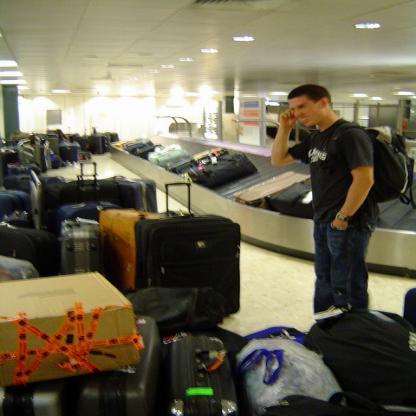backpack: (330, 123, 416, 210)
suitcase: (0, 80, 415, 404), (132, 182, 244, 320), (159, 335, 237, 416), (99, 205, 162, 293), (1, 224, 62, 278), (62, 213, 111, 276), (57, 201, 124, 237), (0, 382, 65, 416), (59, 180, 123, 207), (0, 190, 31, 222), (33, 137, 51, 172), (0, 147, 17, 176), (46, 134, 60, 156), (89, 136, 105, 154)
